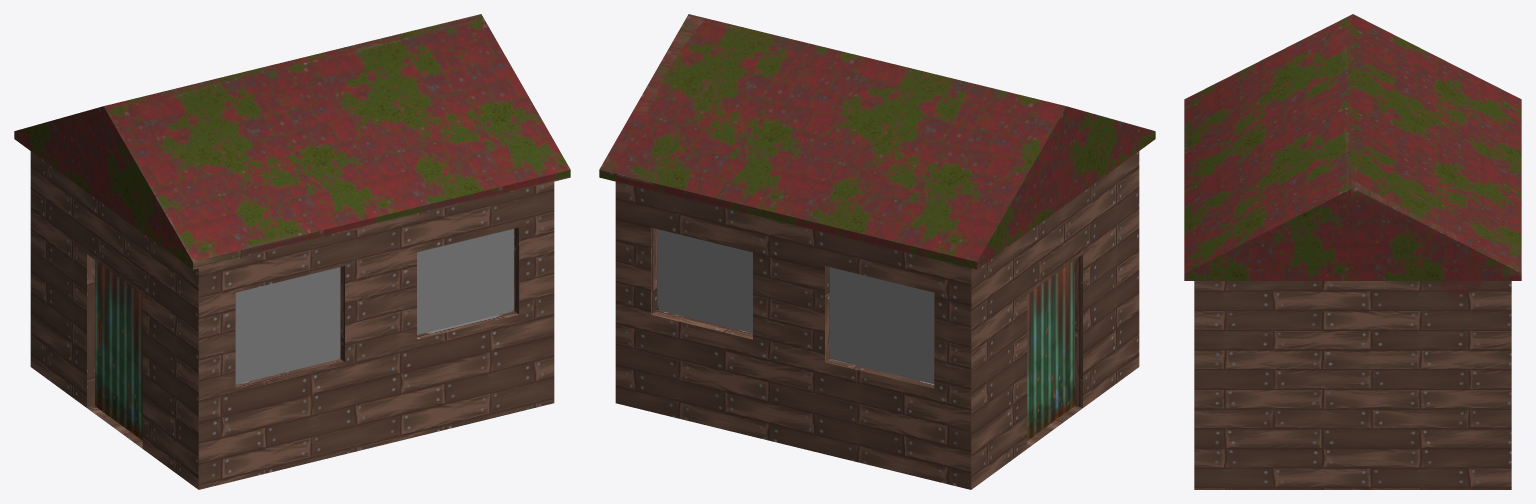
The model's file is House.obj.
The picture shows the model from 3 angles, left to right: view 1: azimuth 30°, elevation 25°; view 2: azimuth 150°, elevation 25°; view 3: azimuth 270°, elevation 25°; orthographic projection. The views are drawn at different scales.
Visible parts, largest first — view 1: pCube1; view 2: pCube1; view 3: pCube1.
Boxes of the visible parts, bbox=[...] form: pCube1: bbox=[14, 14, 570, 489]; pCube1: bbox=[599, 14, 1155, 489]; pCube1: bbox=[1184, 14, 1521, 489].
Size of the model in its own units: 5.57 by 4.58 by 4.56.
Materials: 1 (1 with a texture image).
